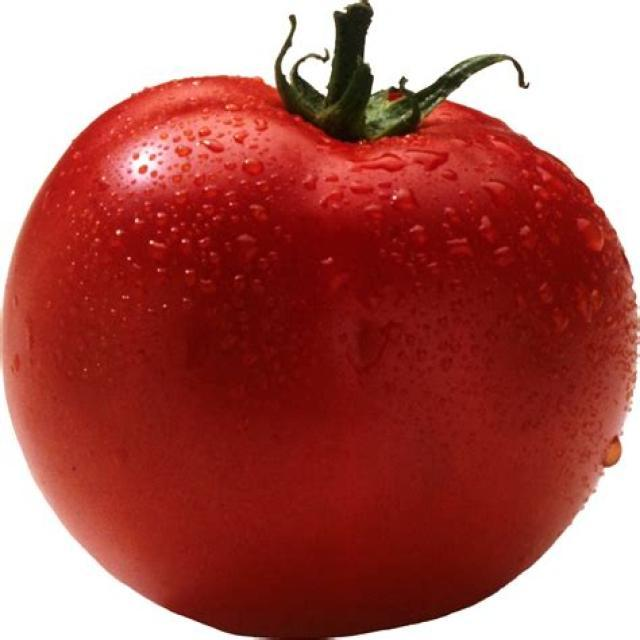Tomato: (0, 6, 640, 640)
